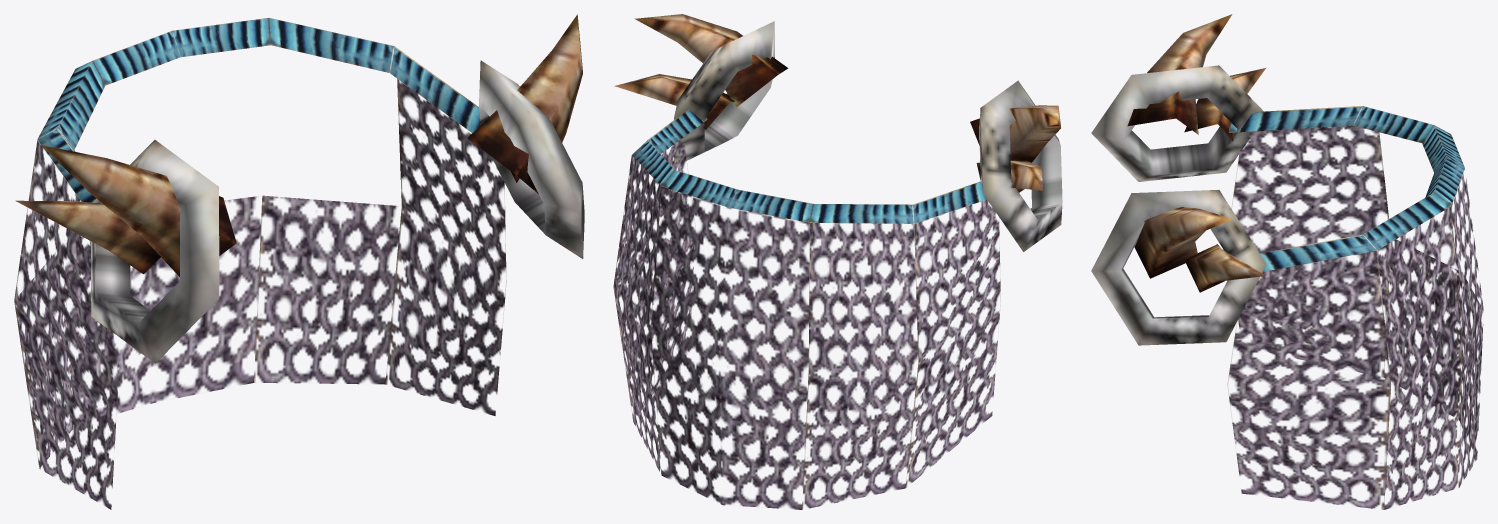
File: b_n_argonian_f_hair04.glb
The picture shows the model from 3 angles, left to right: view 1: azimuth 30°, elevation 25°; view 2: azimuth 150°, elevation 25°; view 3: azimuth 270°, elevation 25°; orthographic projection. The views are drawn at different scales.
Visible parts, largest first — view 1: Tri B_N_Argonian_F_Hair04; view 2: Tri B_N_Argonian_F_Hair04; view 3: Tri B_N_Argonian_F_Hair04.
Boxes of the visible parts, x1,y1,x2,y2 form: Tri B_N_Argonian_F_Hair04: (14,14,584,509); Tri B_N_Argonian_F_Hair04: (613,14,1062,509); Tri B_N_Argonian_F_Hair04: (1091,14,1483,509).
Bounding box in the file's own units: 0.1428 × 0.1097 × 0.1138.
1 material, 1 textured.
